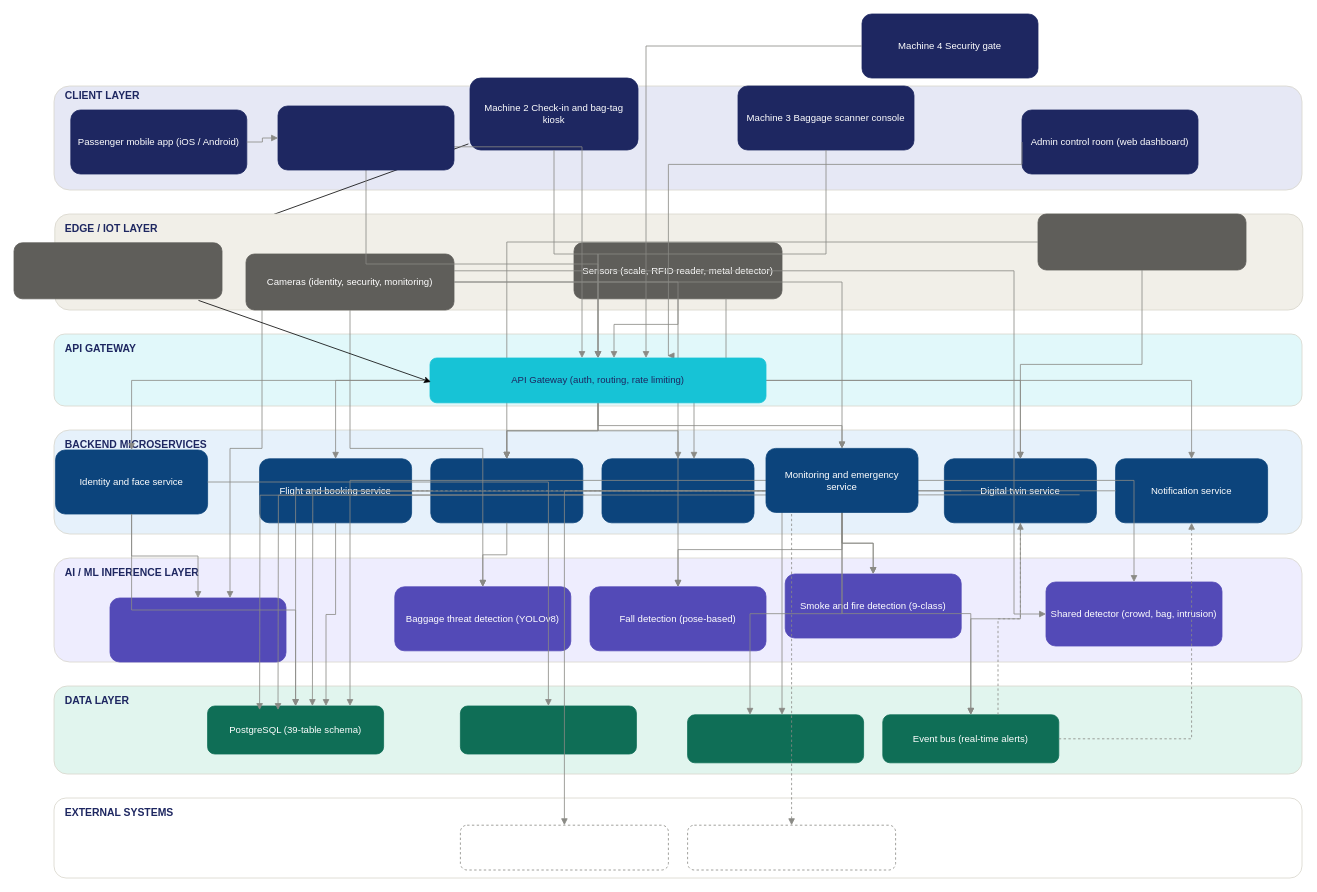
This 1317x892 diagram has some shape labels left out. Each missing label, with the box of its shape:
Airline systems (flight data feed): (687, 824, 896, 870)
Baggage robots: (1037, 213, 1246, 270)
bugging sensor(gps): (13, 242, 222, 299)
Check-in and baggage service: (430, 458, 583, 523)
Face recognition (embedding + match): (109, 597, 286, 662)
Machine 1 Smart login kiosk: (277, 105, 454, 170)
Object storage (images / clips): (687, 714, 864, 763)
Push notifications (APNs / FCM): (460, 824, 668, 870)
Security and gates service: (601, 458, 754, 523)
Vector store (face embeddings): (460, 705, 636, 754)
